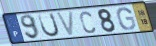8: (97, 8, 117, 33)
9: (20, 14, 41, 41)
C: (79, 10, 97, 35)
G: (116, 6, 137, 31)
U: (37, 12, 61, 39)
V: (55, 10, 75, 38)
